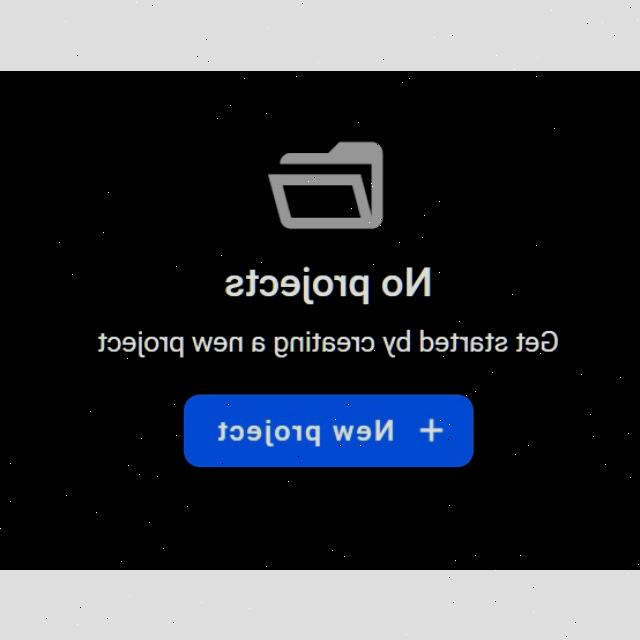QLabel: (88, 330, 560, 358), (228, 264, 434, 304), (217, 418, 395, 448)
VBtn: (182, 390, 474, 468)
VIcon: (418, 418, 442, 442)
VImg: (266, 140, 384, 232)
